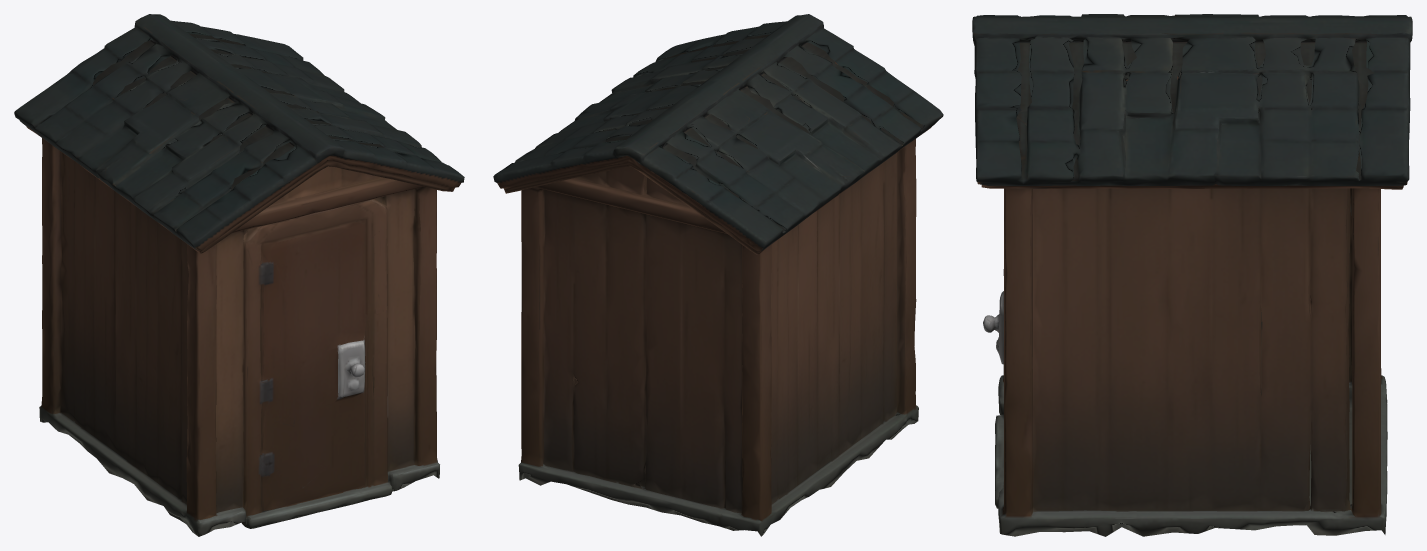
The model's file is universitytoilet_Cabin.glb.
3 views of the same model, side by side, from view 1: azimuth 30°, elevation 25°; view 2: azimuth 150°, elevation 25°; view 3: azimuth 270°, elevation 25° (orthographic). The views are drawn at different scales.
Parts seen in each view (by area): view 1: world; view 2: world; view 3: world.
Boxes of the visible parts, x1,y1,x2,y2 form: world: (14, 14, 464, 536); world: (493, 14, 943, 536); world: (972, 14, 1412, 536).
Size of the model in its own units: 0.7685 by 1 by 0.8897.
Materials: 1 (1 with a texture image).
